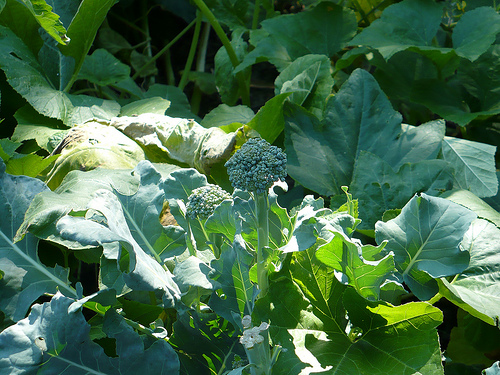broccoli: (225, 133, 289, 285), (186, 183, 224, 229)
